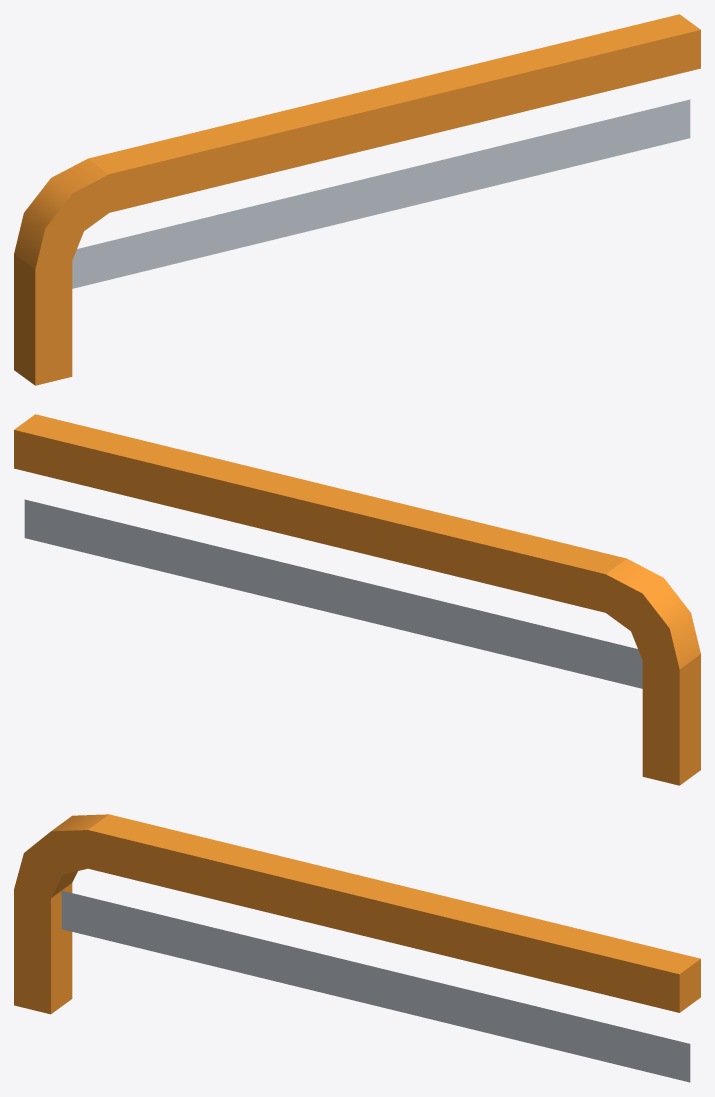
The model's file is rail_end.glb.
The picture shows the model from 3 angles, top to bottom: view 1: azimuth 30°, elevation 25°; view 2: azimuth 150°, elevation 25°; view 3: azimuth 330°, elevation 25°; orthographic projection.
Visible parts, largest first — view 1: rail_end; view 2: rail_end; view 3: rail_end.
Part boxes in pixels (box(x1,y1,x2,y2)): rail_end: box(14, 14, 700, 385); rail_end: box(14, 414, 700, 785); rail_end: box(14, 814, 700, 1082).
Bounding box in the file's own units: 0.9 × 0.25 × 0.05.
